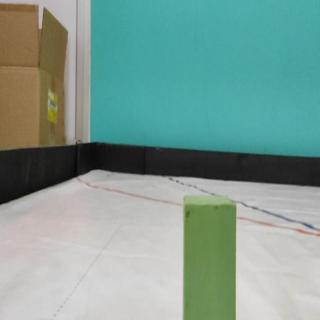greenbox: (181, 193, 238, 320)
